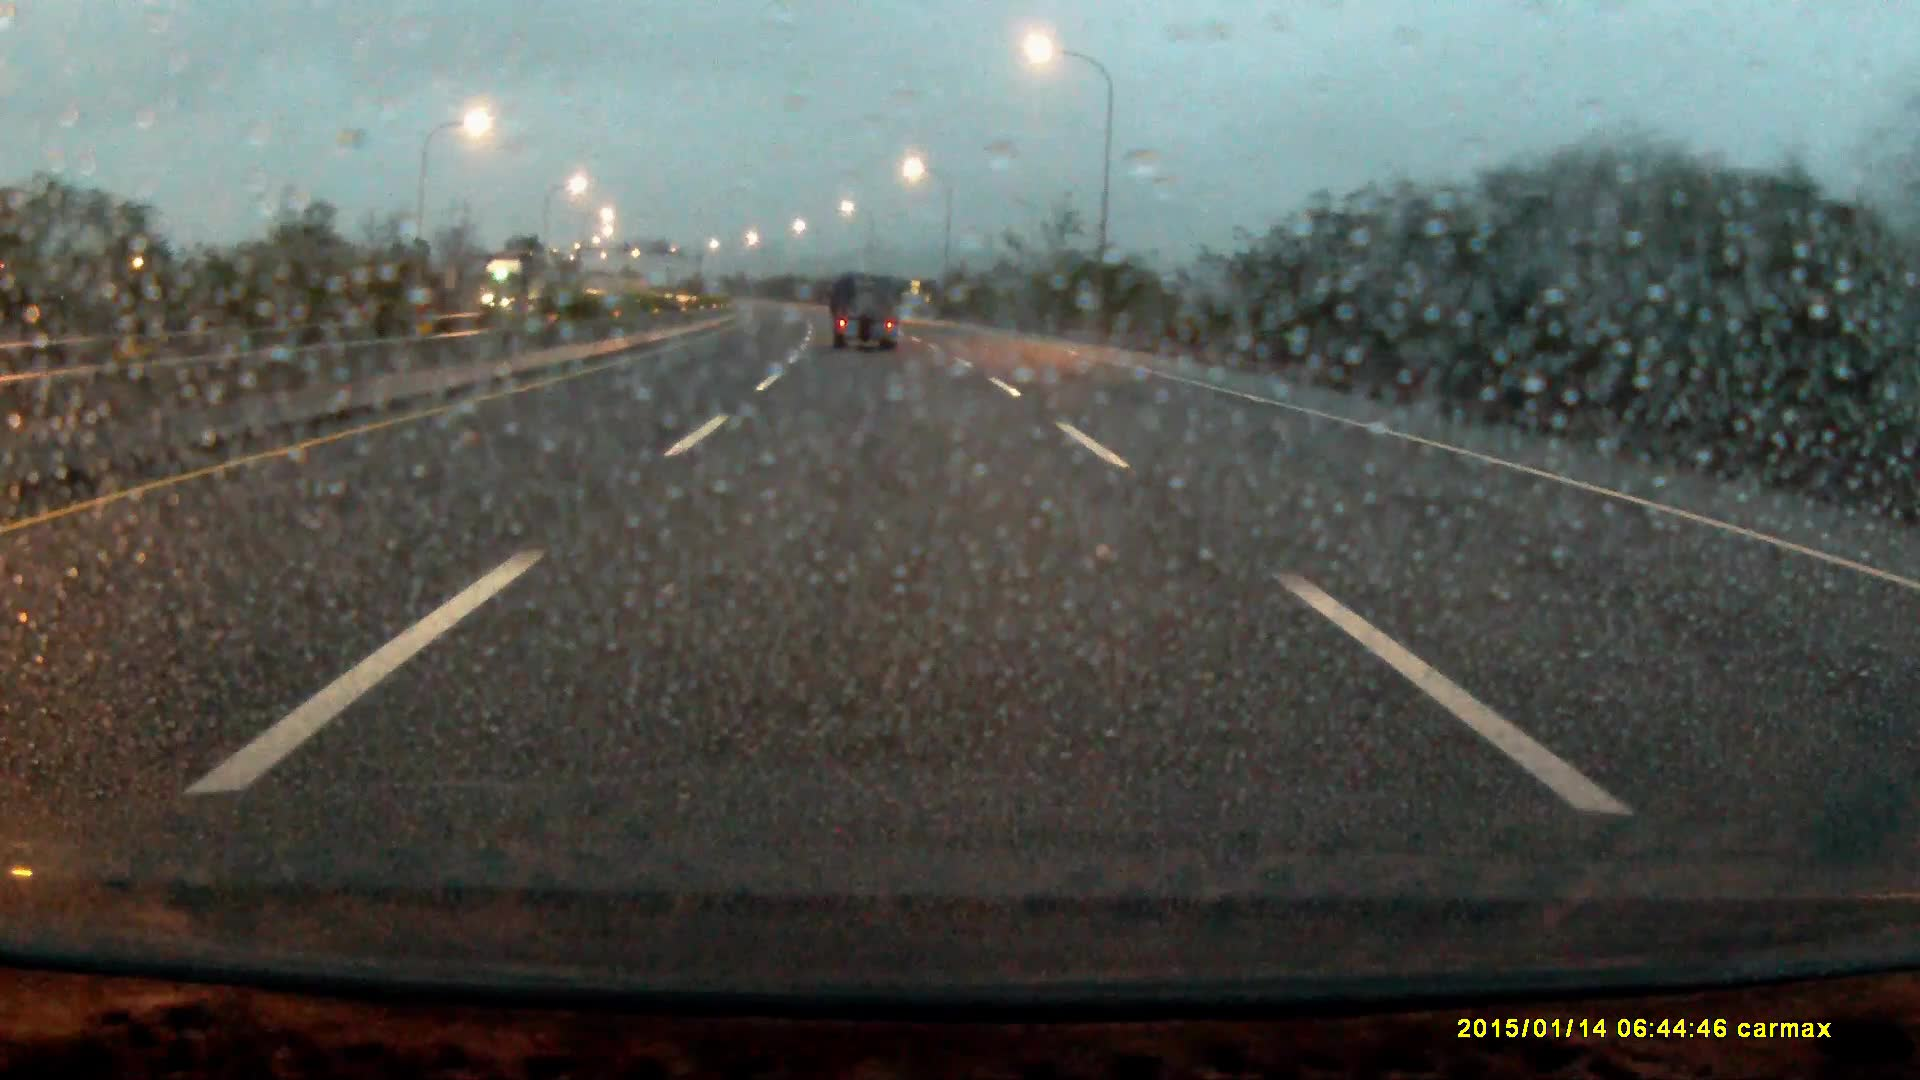vehicle: (465, 251, 566, 330), (832, 272, 902, 351)
